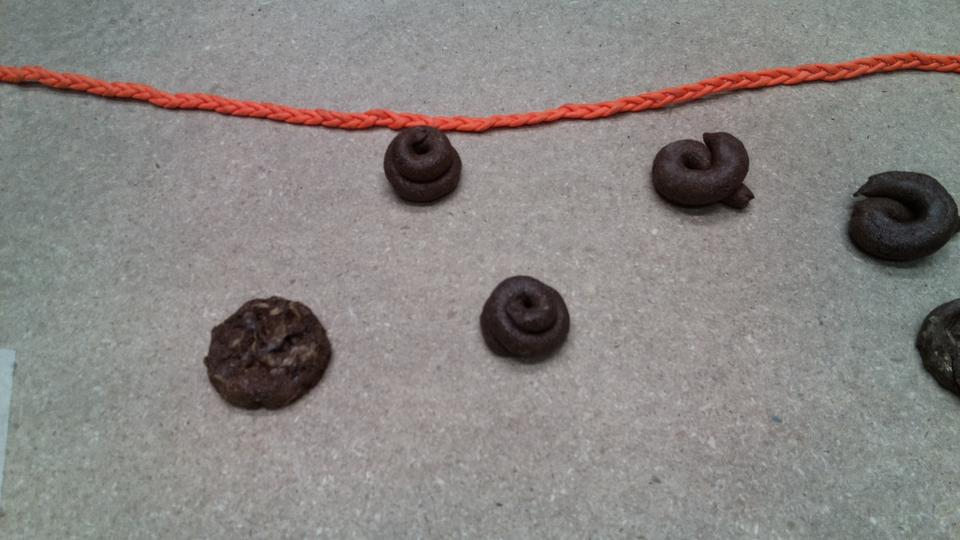poop: (201, 288, 331, 412), (847, 167, 960, 267), (647, 132, 761, 217), (472, 272, 574, 367), (381, 126, 469, 205)
rope: (1, 53, 378, 160), (605, 61, 912, 118), (371, 91, 633, 131), (750, 40, 960, 88)
